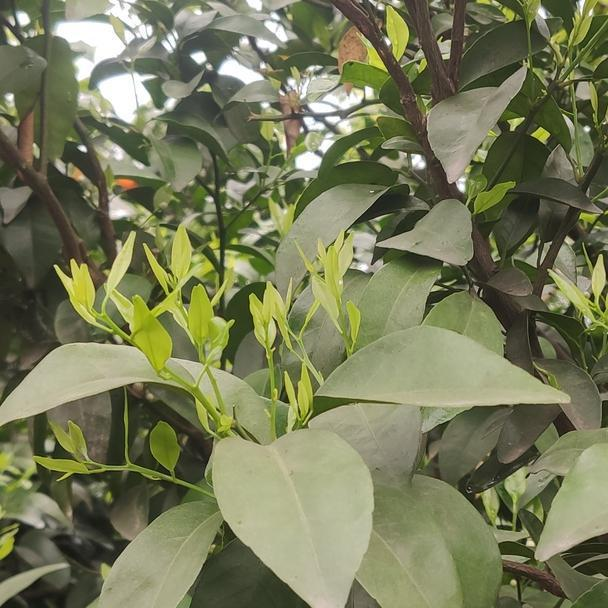shoot: (44, 250, 213, 409), (37, 418, 221, 520), (151, 234, 234, 392), (303, 243, 368, 356), (243, 296, 294, 384)
